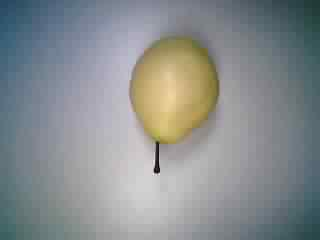pear: (111, 31, 224, 176)
